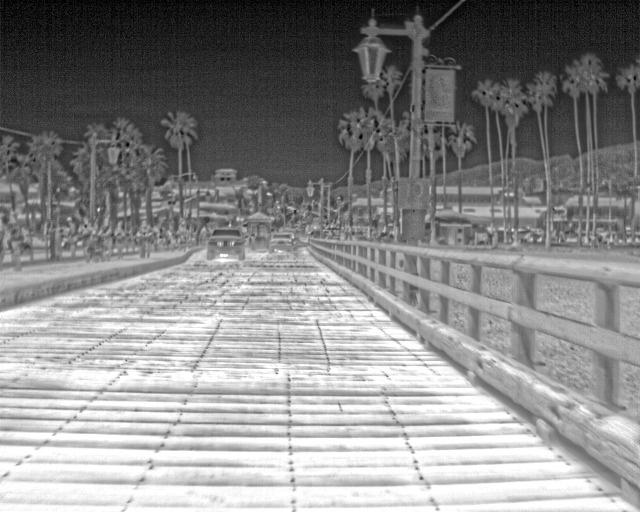bicycle: (206, 226, 246, 259), (267, 229, 298, 249)
empty: (134, 217, 153, 260), (98, 216, 115, 261), (113, 217, 125, 255), (62, 213, 79, 239)
